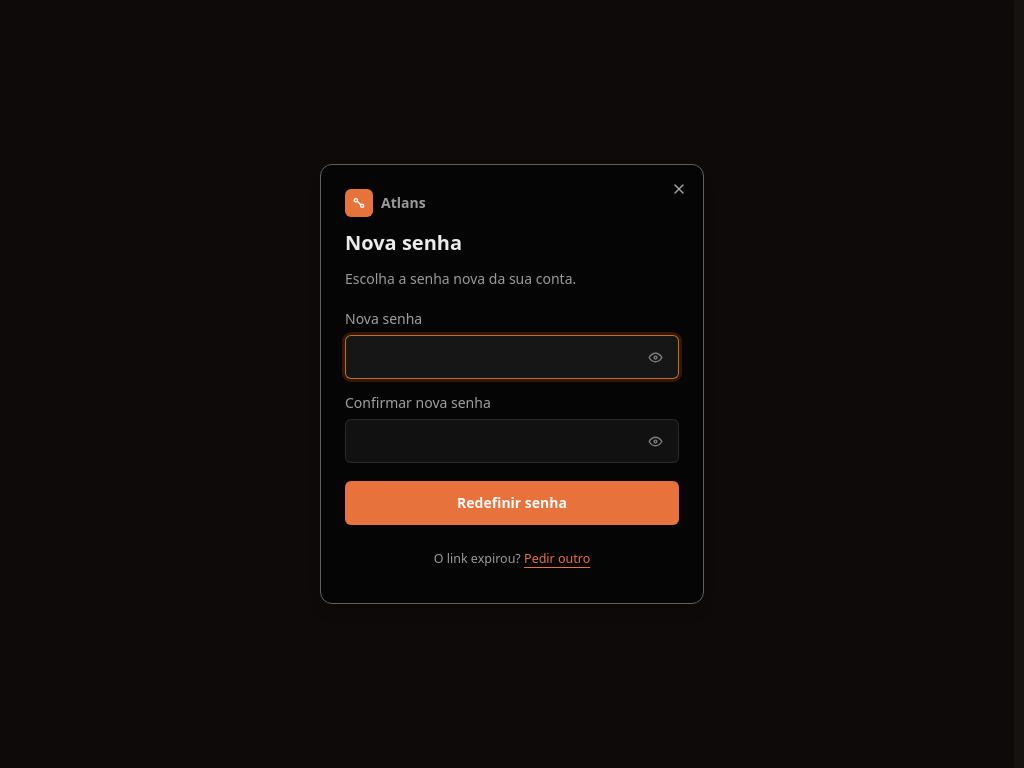
Test: ModalDeEntrada — o caminho da senha › redefinir: manda o token do link e volta ao login com o aviso
The width and height of the screenshot is (1024, 768).
Type "senha-nova-1" into the password field labelled "Nova senha" at coordinates (512, 357), box [345, 335, 679, 379]
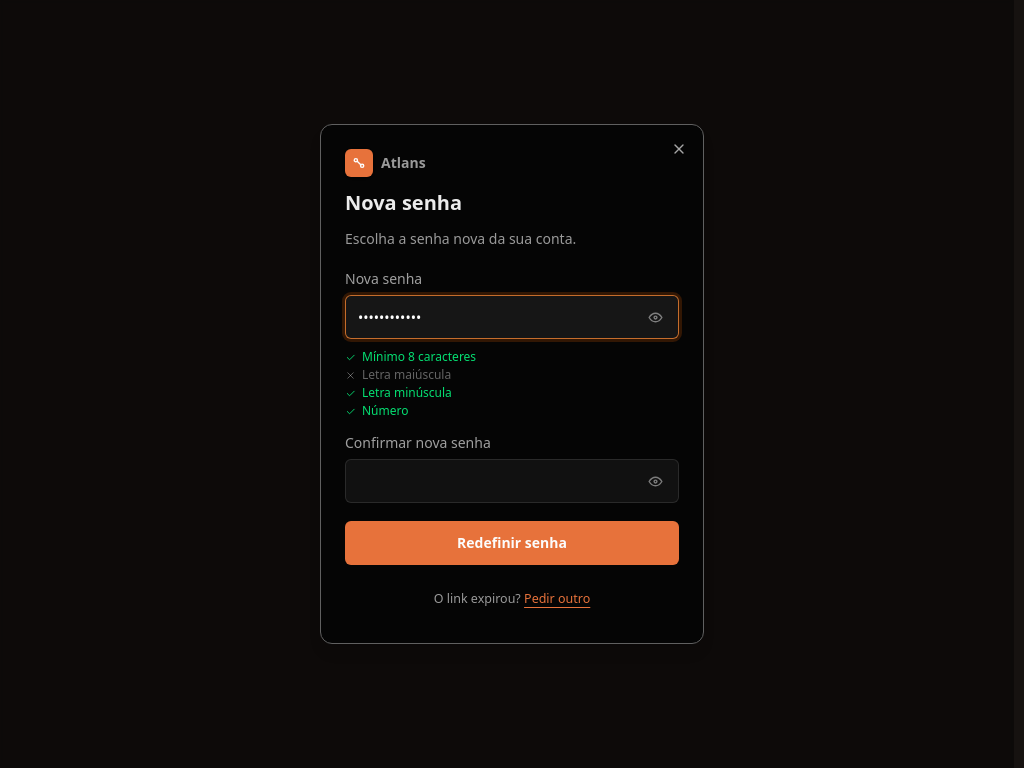
Type "senha-nova-1" into the password field labelled "Confirmar nova senha" at coordinates (512, 481), box [345, 459, 679, 503]
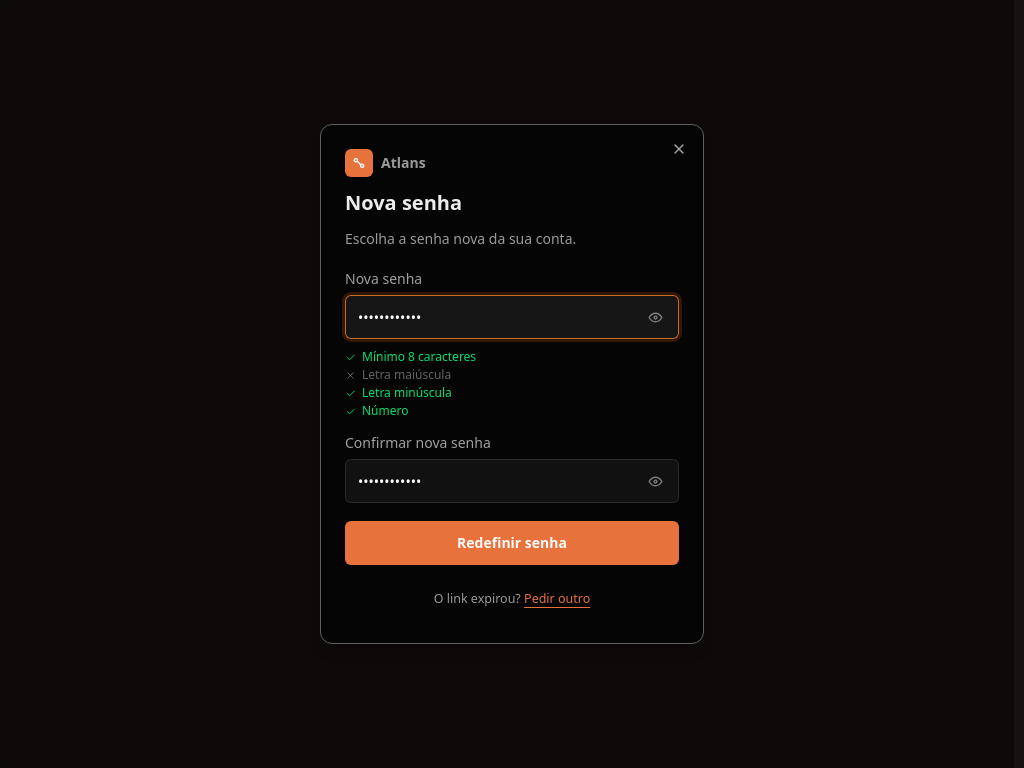
Submit the form named "Confirmar nova senha", box [345, 269, 679, 619]
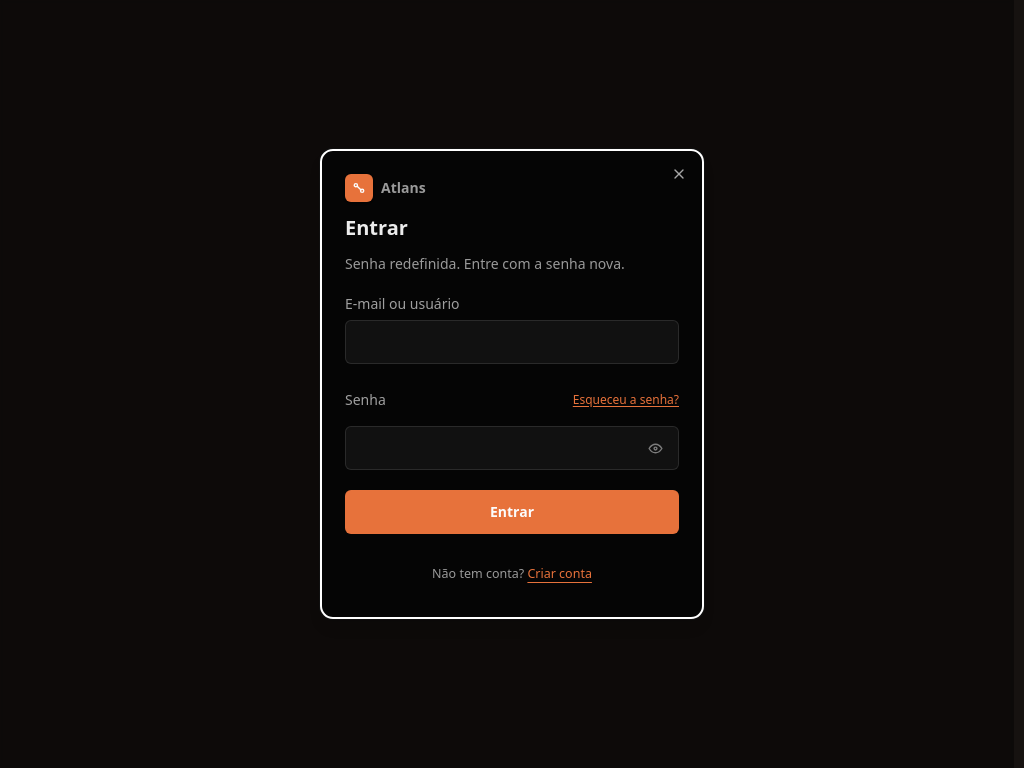
Check: the text "Senha redefinida. Entre com a senha nova." is shown, box [345, 254, 625, 273]
